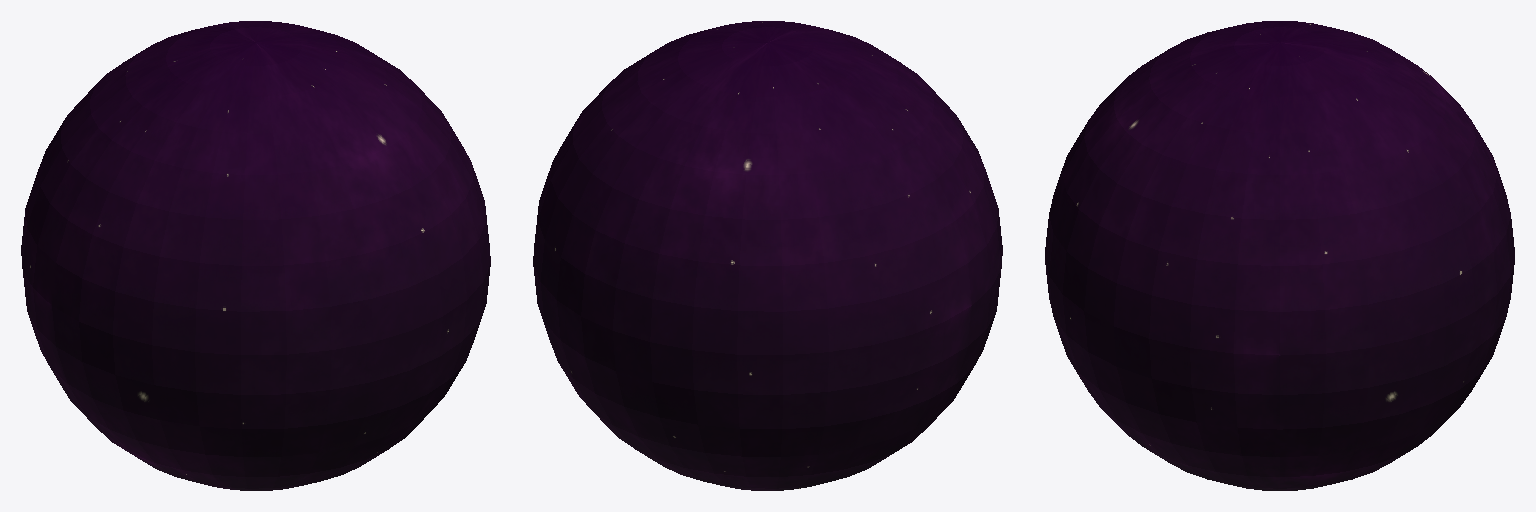
3 views of the same model, side by side, from view 1: azimuth 30°, elevation 25°; view 2: azimuth 150°, elevation 25°; view 3: azimuth 270°, elevation 25° (orthographic).
Visible parts, largest first — view 1: 球.001; view 2: 球.001; view 3: 球.001.
Part boxes in pixels (left/top/right/bottom): 球.001: left=21, top=21, right=490, bottom=490; 球.001: left=533, top=21, right=1002, bottom=490; 球.001: left=1045, top=21, right=1514, bottom=490.
Bounding box in the file's own units: 200 × 200 × 200.
1 materials, 1 textured.